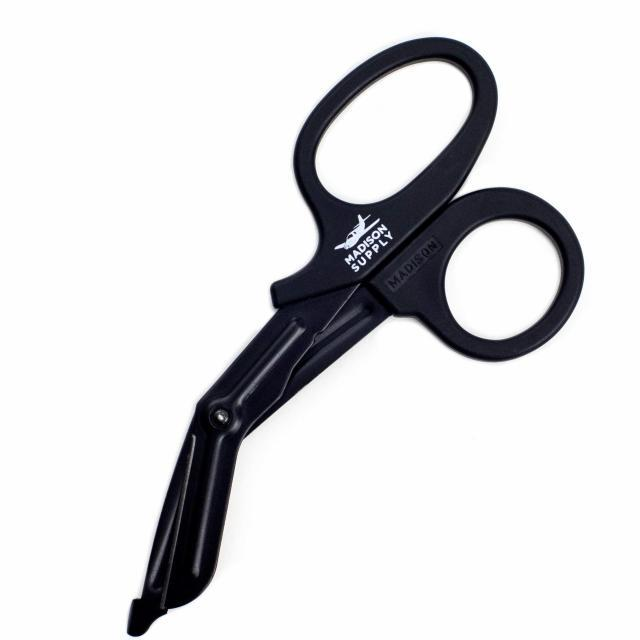scissors: (123, 35, 588, 638)
